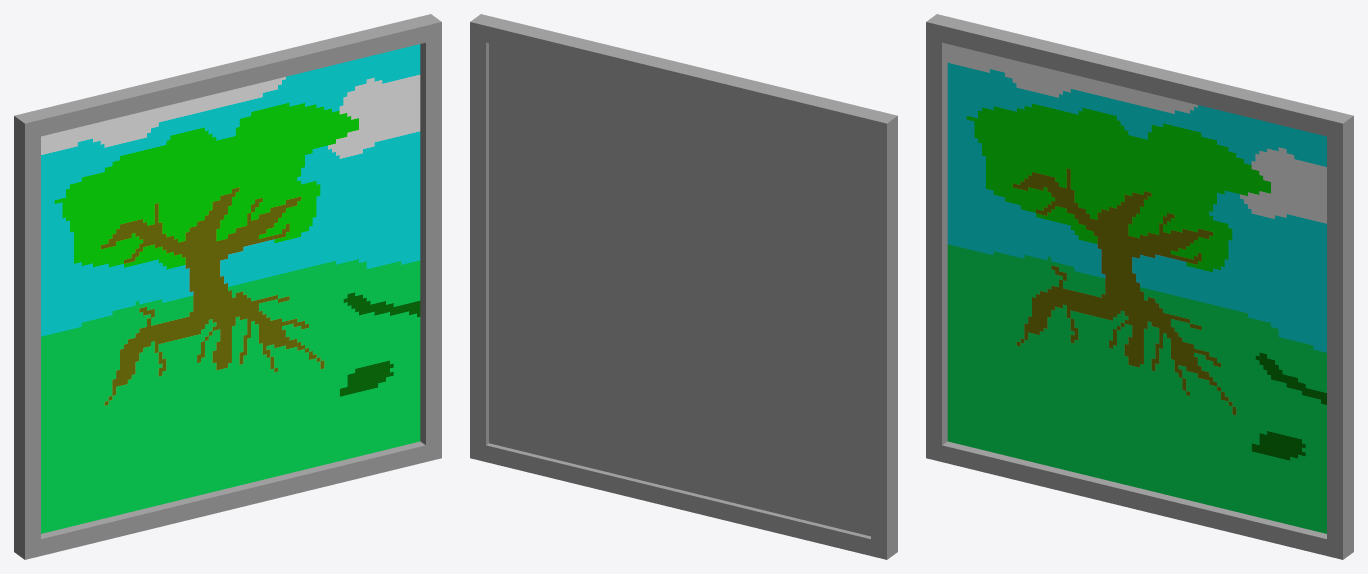
The model's file is Image2.fbx.
3 views of the same model, side by side, from view 1: azimuth 30°, elevation 25°; view 2: azimuth 150°, elevation 25°; view 3: azimuth 330°, elevation 25° (orthographic).
Parts seen in each view (by area): view 1: Painting; view 2: Painting; view 3: Painting.
Boxes of the visible parts, <box> form: Painting: <box>14,14,441,559</box>; Painting: <box>470,14,897,559</box>; Painting: <box>926,14,1353,559</box>.
Size of the model in its own units: 108 by 108 by 4.87.
